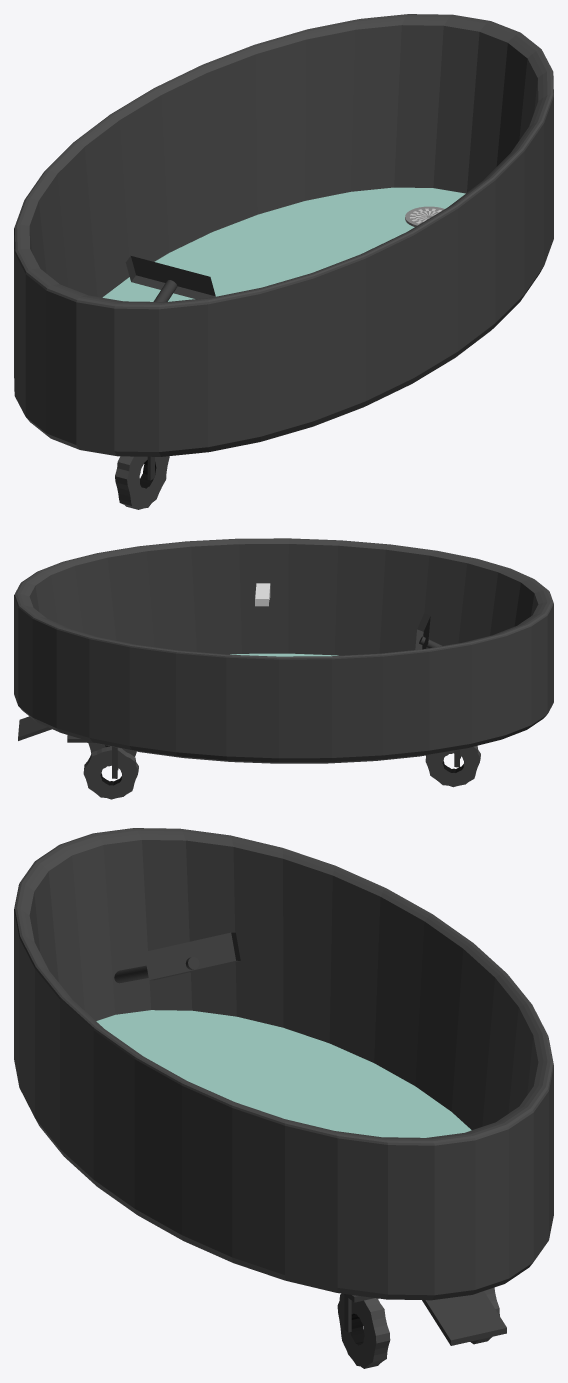
Rendered from bathstone.gltf.
3 renders of one model, top to bottom at view 1: azimuth 30°, elevation 25°; view 2: azimuth 150°, elevation 25°; view 3: azimuth 270°, elevation 25°, orthographic. The views are drawn at different scales.
Parts seen in each view (by area): view 1: Cube.006; view 2: Cube.006; view 3: Cube.006.
Boxes of the visible parts, <box> form: Cube.006: <box>14,14,553,509</box>; Cube.006: <box>14,538,553,799</box>; Cube.006: <box>14,828,553,1368</box>.
Bounding box in the file's own units: 10.7 × 4.32 × 7.72.
